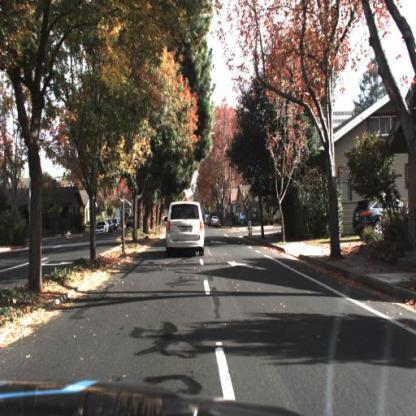car: (161, 196, 211, 260), (351, 189, 409, 244), (94, 218, 110, 237), (97, 220, 110, 237)
